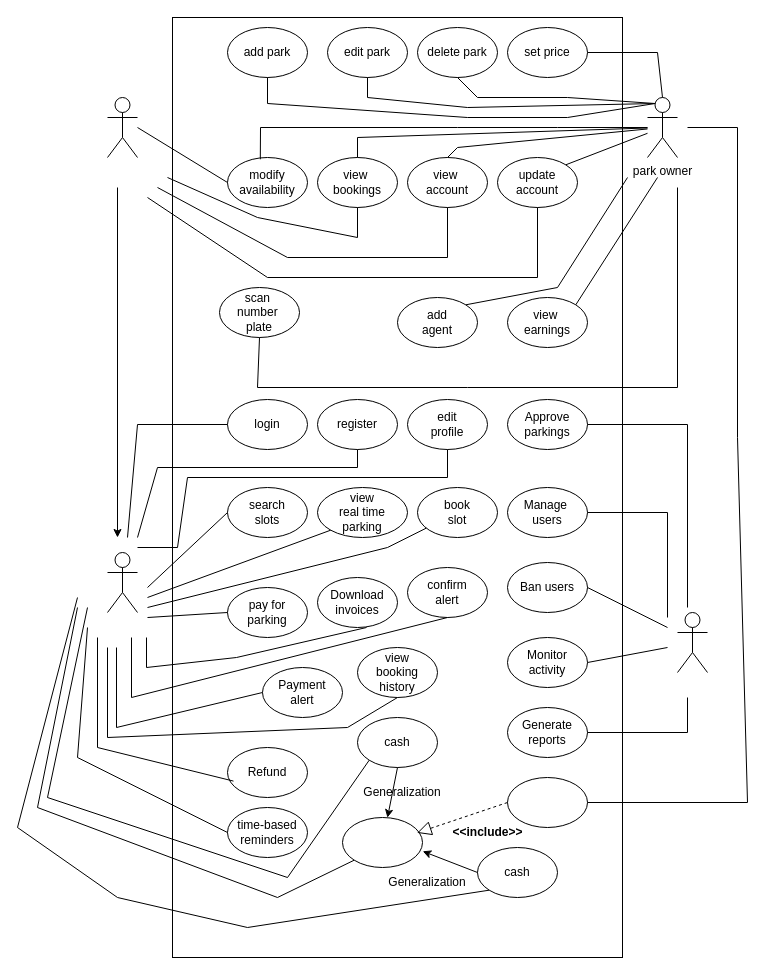
Image size: 766x975. Some labels were removed from this diagram. The shapes that lost their labels are listed below. From the top down, each one's centre as x and y in pixels, then its label:
At (x=122, y=127): "parking agent".
At (x=122, y=582): "customer".
At (x=692, y=642): "Admin".
At (x=547, y=802): "scan QR code".
At (x=382, y=842): "pay ticket".
